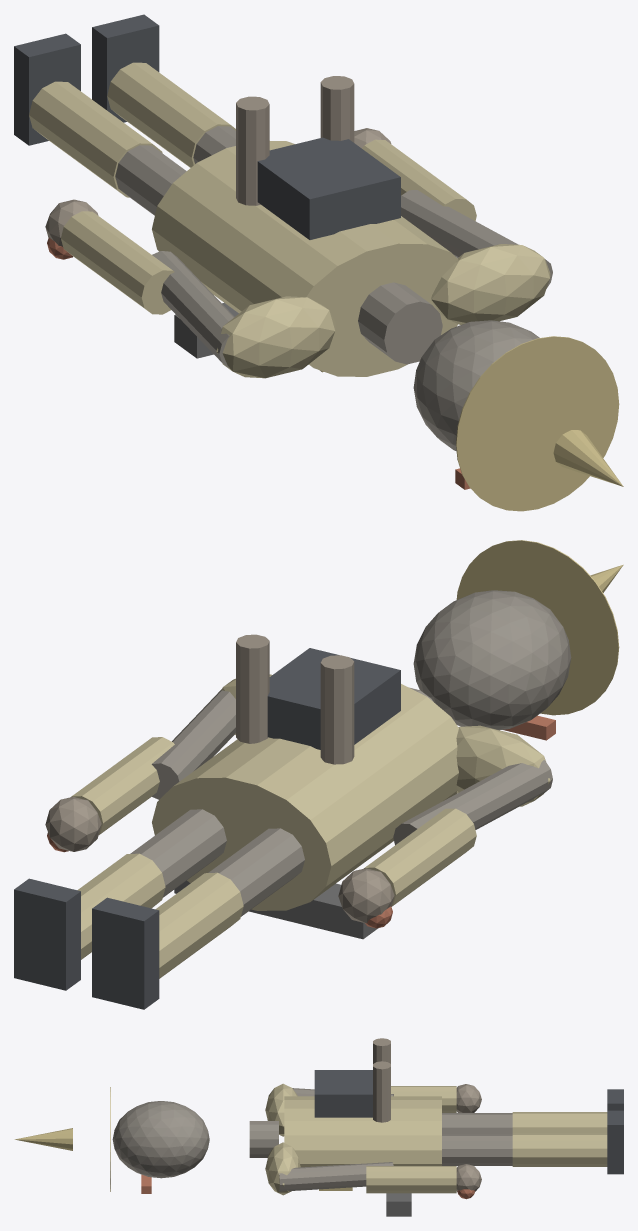
File: SWN-048_bracca_halforn.glb
3 views of the same model, one above another, from view 1: azimuth 30°, elevation 25°; view 2: azimuth 150°, elevation 25°; view 3: azimuth 270°, elevation 25° (orthographic). The views are drawn at different scales.
Visible parts, largest first — view 1: body_spine, rank_halo_ring, back_thruster_pack, head, shoulder_plate_-1, shoulder_plate_1, greave_-1, greave_1, forearm_gauntlet_-1, neck, boot_-1, boot_1 (+10 smaller); view 2: body_spine, head, rank_halo_ring, back_thruster_pack, boot_-1, boot_1, greave_-1, forearm_gauntlet_-1, upper_arm_-1, thigh_-1, thigh_1, forearm_gauntlet_1 (+9 smaller); view 3: body_spine, head, greave_1, back_thruster_pack, forearm_gauntlet_1, thigh_1, upper_arm_1, greave_-1, thigh_-1, boot_1, shoulder_plate_1, aether_thruster_1 (+9 smaller).
Part boxes in pixels (x1,y1,x2,y2): body_spine: (152, 141, 458, 376); rank_halo_ring: (456, 336, 619, 511); back_thruster_pack: (257, 137, 400, 239); head: (413, 320, 539, 451); shoulder_plate_-1: (216, 296, 335, 378); shoulder_plate_1: (431, 244, 550, 324); greave_-1: (29, 81, 162, 197); greave_1: (107, 62, 235, 167); forearm_gauntlet_-1: (61, 211, 174, 314); neck: (358, 282, 442, 364); boot_-1: (14, 33, 80, 145); boot_1: (92, 14, 159, 122); body_spine: (152, 684, 458, 910); head: (413, 590, 571, 730); rank_halo_ring: (456, 540, 619, 715); back_thruster_pack: (267, 648, 400, 749); boot_-1: (92, 897, 159, 1009); boot_1: (14, 878, 80, 990); greave_-1: (155, 872, 243, 978); forearm_gauntlet_-1: (364, 808, 476, 906); upper_arm_-1: (393, 760, 552, 845); thigh_-1: (208, 828, 304, 916); thigh_1: (130, 809, 226, 897); forearm_gauntlet_1: (71, 737, 174, 834); body_spine: (284, 1096, 441, 1167); head: (112, 1101, 209, 1178); greave_1: (512, 1133, 607, 1166); back_thruster_pack: (314, 1070, 372, 1117); forearm_gauntlet_1: (366, 1166, 456, 1193); thigh_1: (442, 1134, 512, 1165); upper_arm_1: (279, 1162, 393, 1191); greave_-1: (512, 1112, 607, 1133); thigh_-1: (442, 1113, 512, 1134); boot_1: (607, 1110, 623, 1174); shoulder_plate_1: (265, 1142, 300, 1195); aether_thruster_1: (373, 1061, 390, 1122).
Size of the model in its own units: 1.05 by 0.72 by 2.9.
